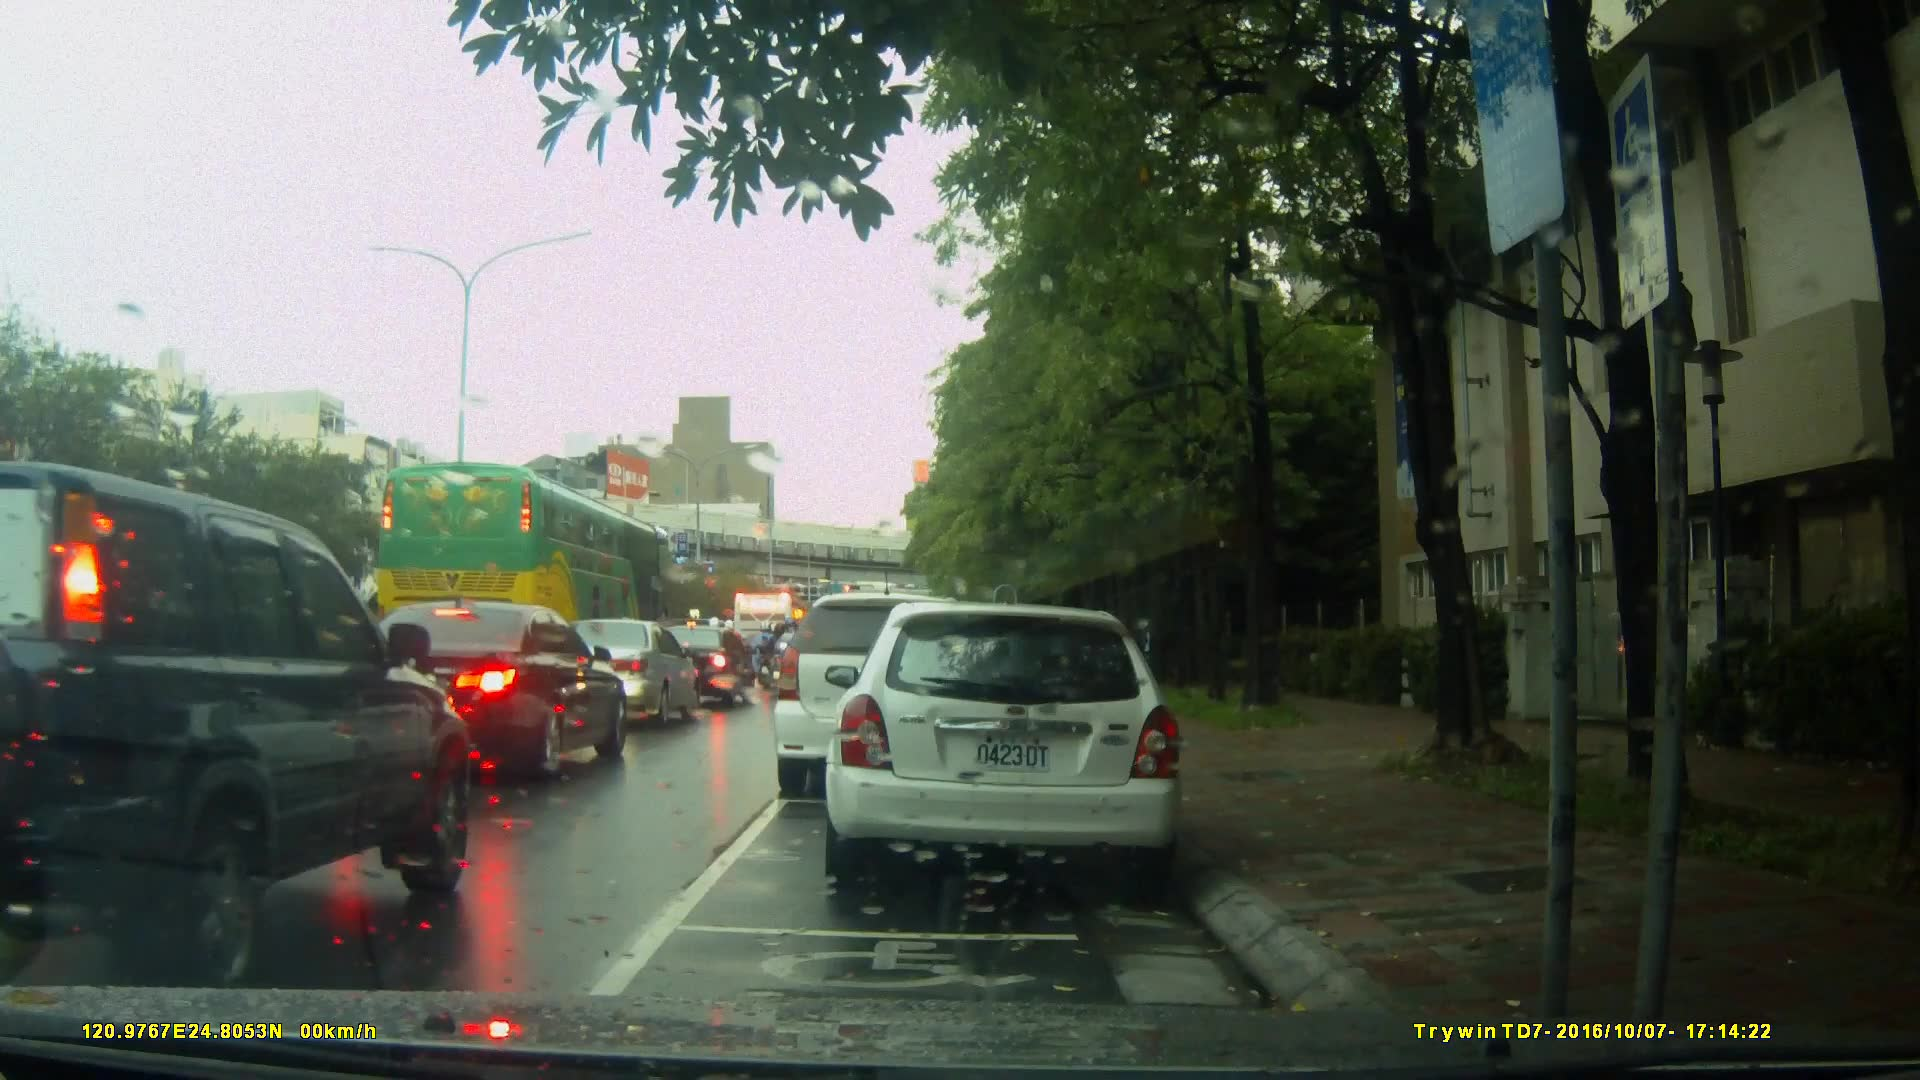rider: (771, 617, 803, 706)
vehicle: (1, 457, 481, 984), (831, 592, 1196, 897), (369, 459, 669, 659), (321, 599, 632, 788), (778, 599, 999, 802), (538, 618, 702, 731), (653, 624, 760, 712)
